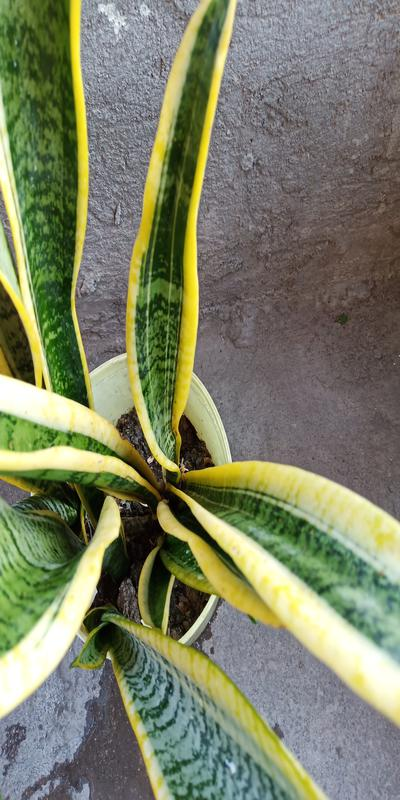Snake plant: (2, 18, 291, 767)
